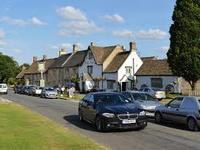car: (42, 69, 94, 112), (107, 68, 152, 103)
